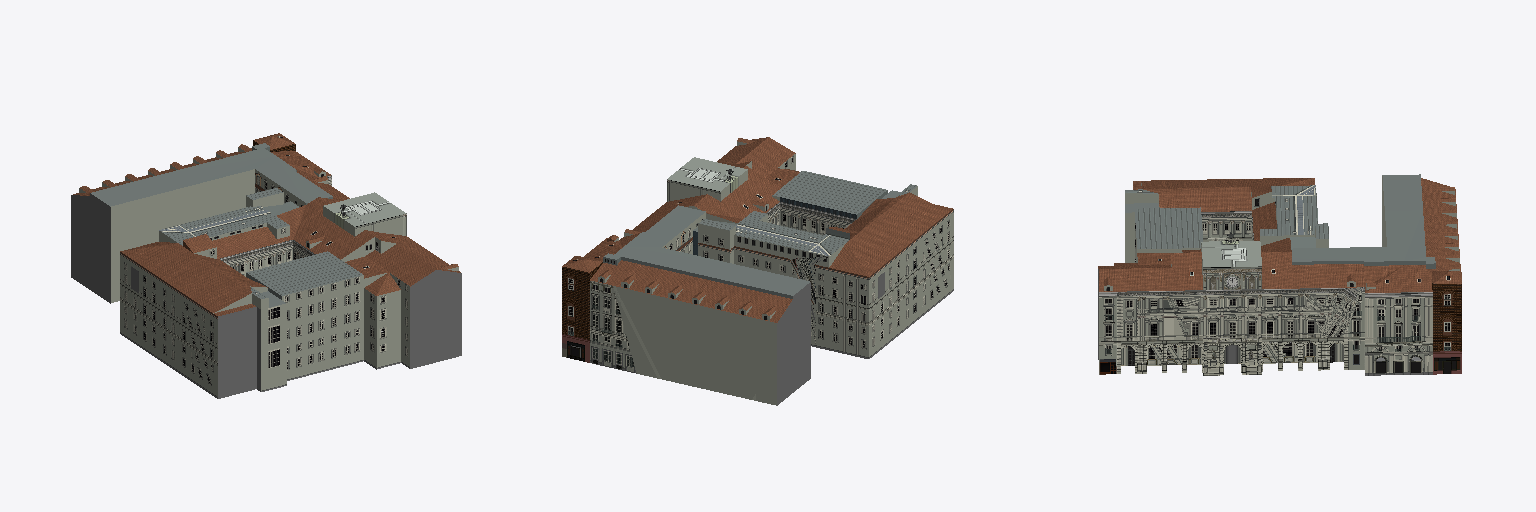
The picture shows the model from 3 angles: view 1: azimuth 30°, elevation 25°; view 2: azimuth 150°, elevation 25°; view 3: azimuth 270°, elevation 25°; orthographic projection.
Visible parts, largest first — view 1: S; view 2: S; view 3: S.
Boxes of the visible parts, <box> form: S: <box>71,133,461,398</box>; S: <box>562,137,953,405</box>; S: <box>1098,174,1461,375</box>.
Bounding box in the file's own units: 61.15 × 30.59 × 81.48.
Materials: 1 (1 with a texture image).